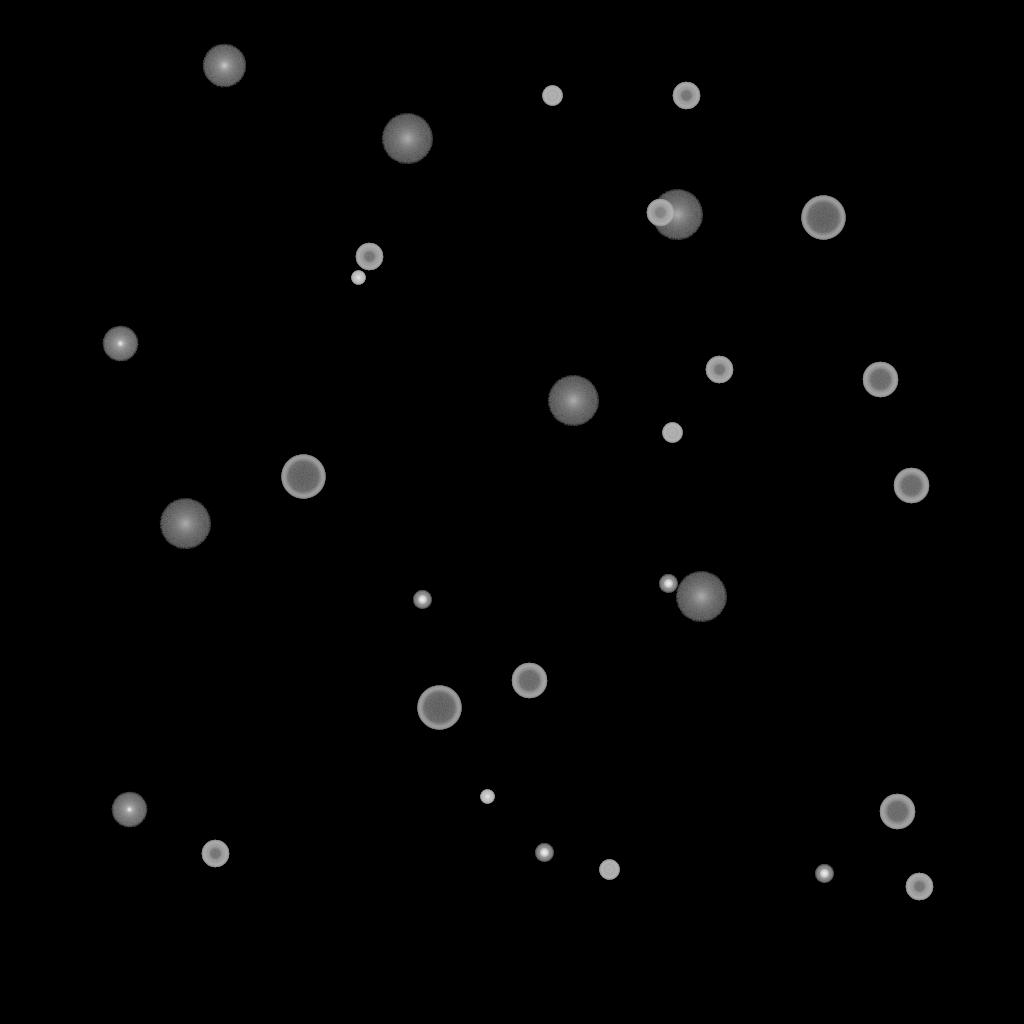depth:-20: (815, 865, 833, 883), (413, 591, 431, 609), (659, 575, 677, 593), (535, 844, 553, 862)
depth:-30: (480, 790, 494, 804), (351, 271, 365, 285)
depth:-40: (662, 423, 682, 443), (542, 86, 562, 106), (599, 860, 619, 880)
depth:-50: (646, 199, 674, 227), (705, 356, 733, 384), (672, 82, 700, 110), (201, 840, 229, 868), (355, 243, 383, 271), (905, 873, 933, 901)
depth:-60: (879, 794, 915, 830), (862, 362, 898, 398), (511, 663, 547, 699), (893, 468, 929, 504)
depth:-70: (281, 455, 325, 499), (801, 196, 845, 240), (417, 686, 461, 730)
depth:0: (111, 792, 147, 828), (102, 326, 138, 362)
depth:10: (202, 44, 246, 88)
depth:20: (675, 572, 727, 622), (381, 114, 433, 164), (547, 376, 599, 426), (159, 499, 211, 549), (651, 190, 703, 240)
